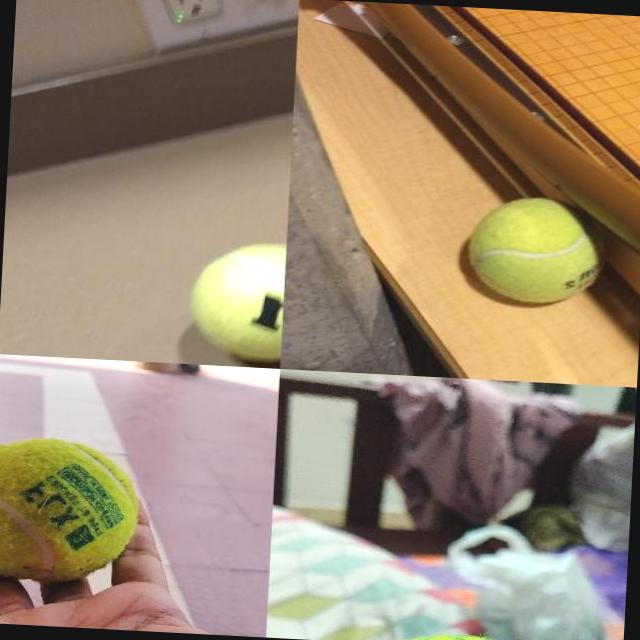Tennis Ball: (0, 435, 142, 587), (464, 193, 610, 309), (186, 239, 288, 364)
